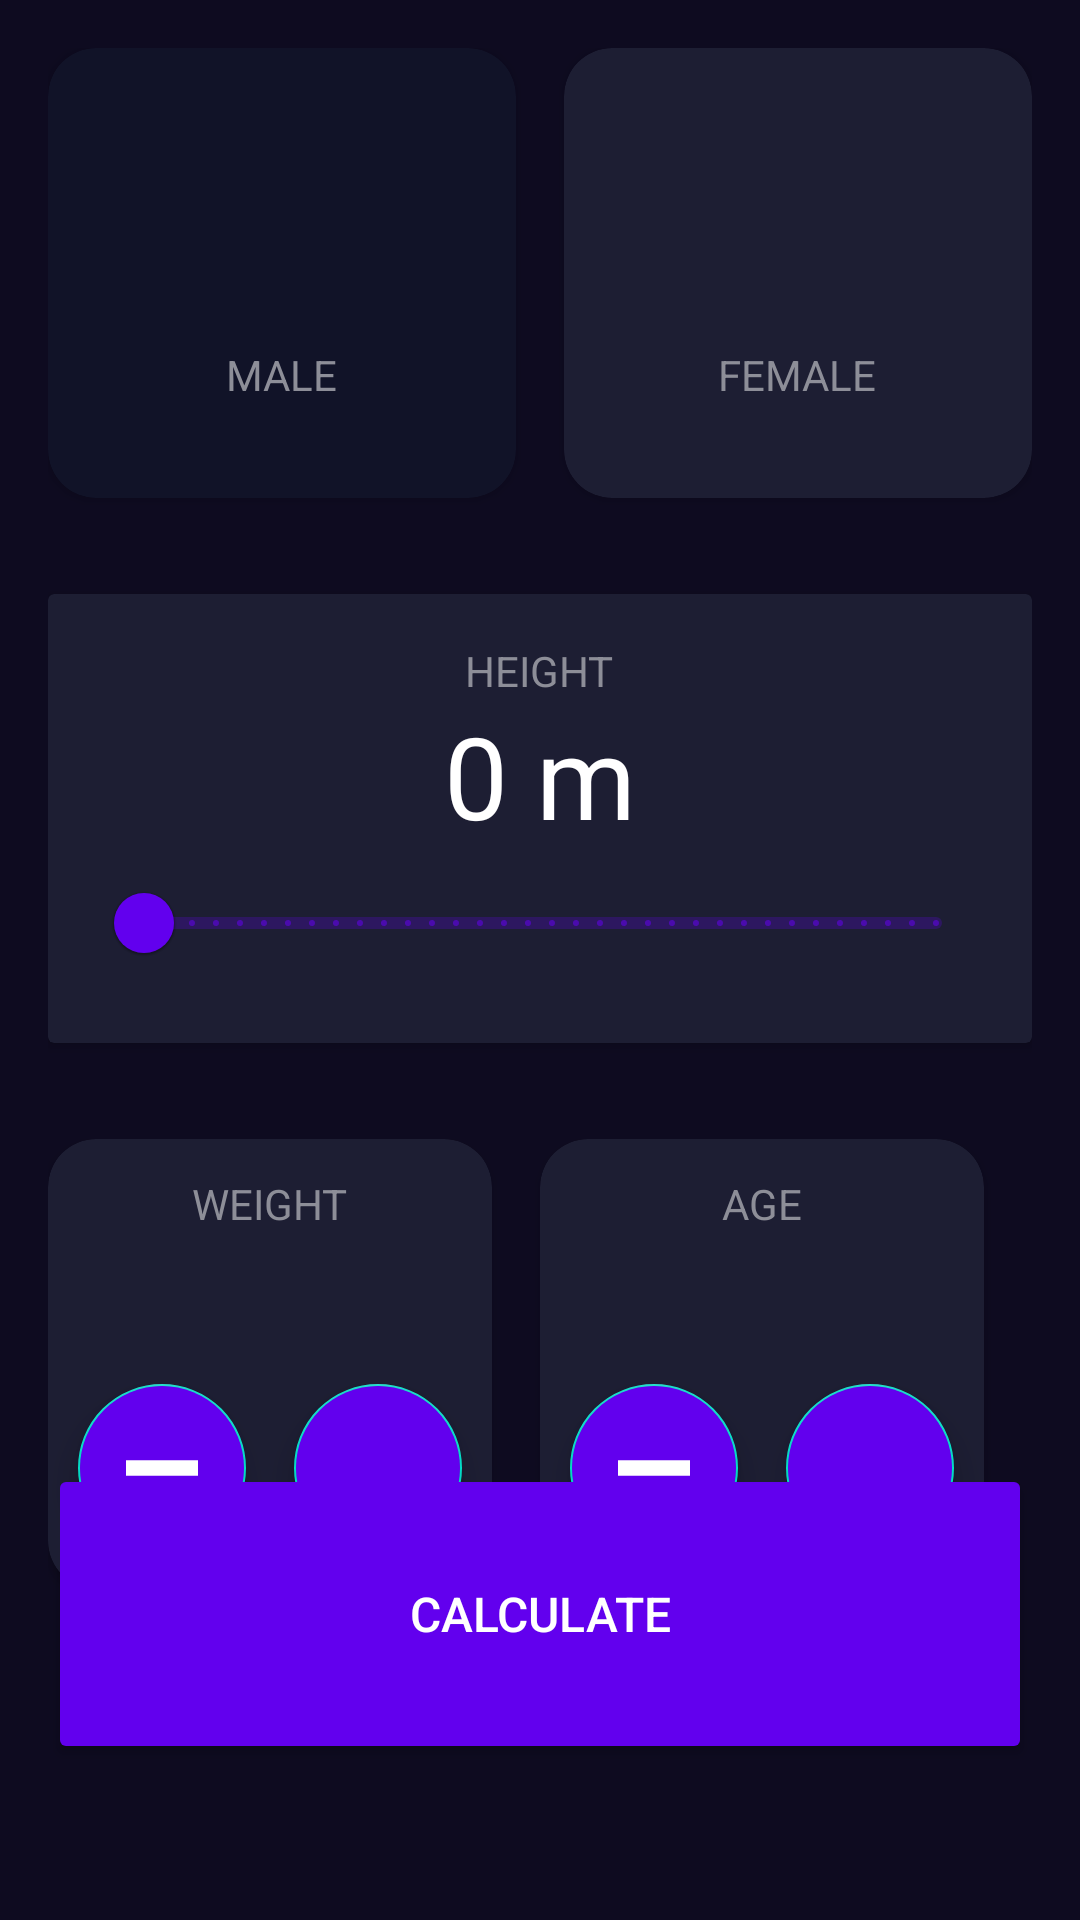

Where to tap for icons on this 1080w x 1920h app screen, as point (x, y):
subtract: point (162, 1468), point (654, 1468)
